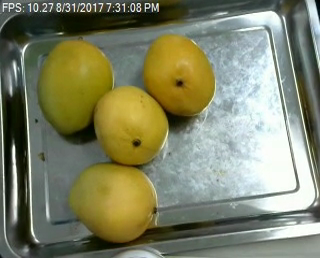Mango: (37, 41, 114, 135), (69, 164, 156, 242), (93, 86, 168, 166), (144, 35, 216, 115)
